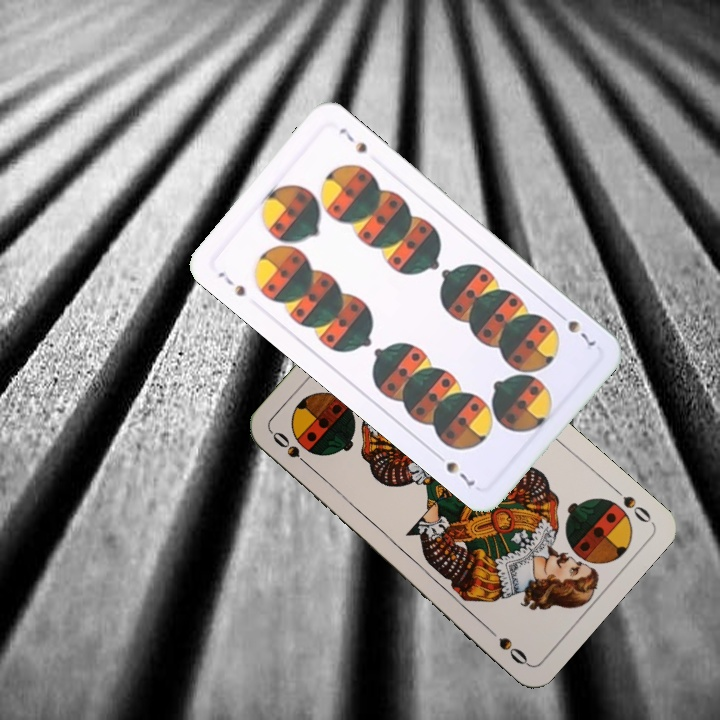S7: (552, 307, 598, 349), (213, 267, 249, 299)
SO: (268, 427, 316, 473), (607, 481, 654, 526)
